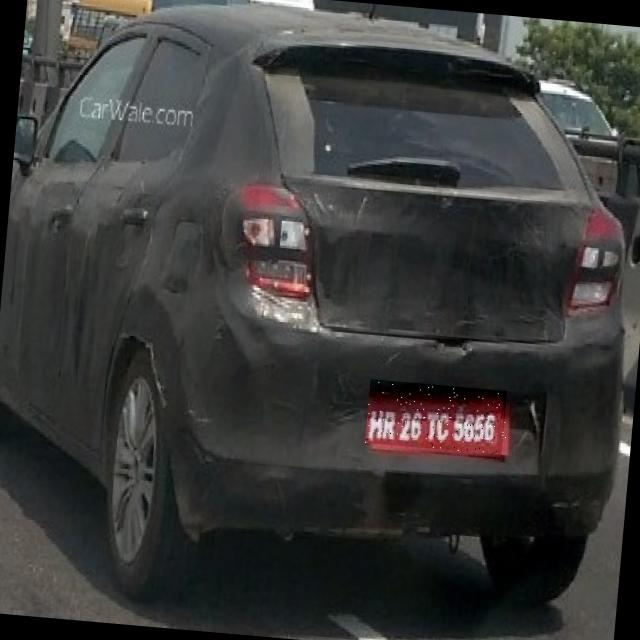Plate: (366, 380, 511, 456)
